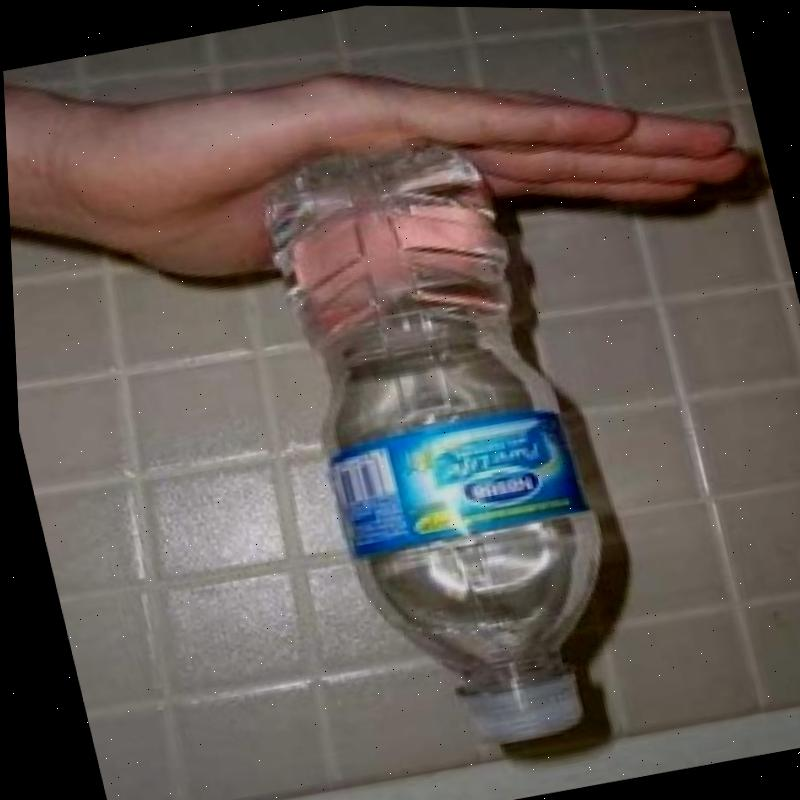botella: (254, 122, 637, 768)
